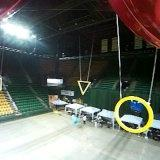Yellow_Circle_GShape: (114, 95, 154, 134)
Yellow_Triangle_Gshape: (77, 80, 91, 95)
